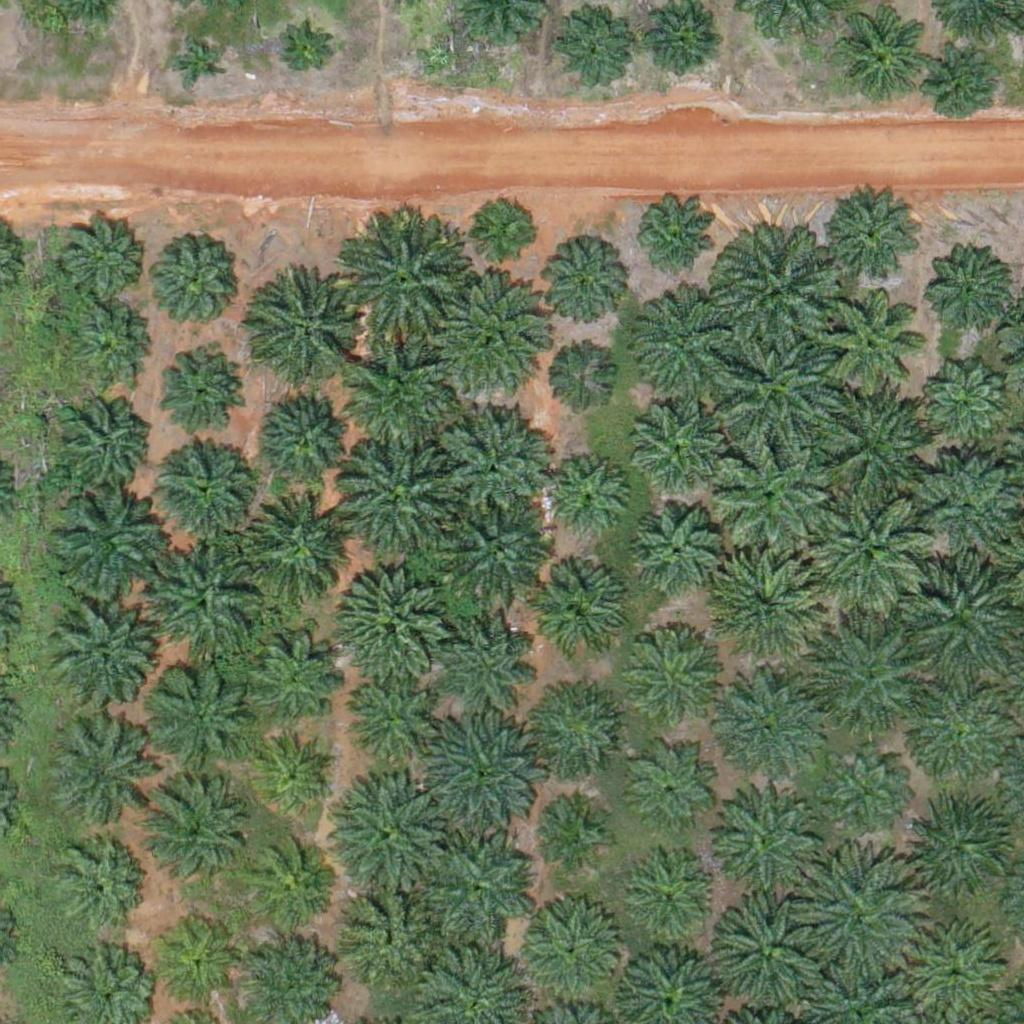Kelapa_Sawit: (791, 850, 916, 976), (813, 489, 938, 615), (712, 229, 837, 355), (342, 224, 467, 350), (716, 323, 841, 448), (706, 551, 819, 665), (710, 896, 823, 1010), (442, 279, 555, 393), (238, 492, 351, 606), (902, 560, 1015, 673), (816, 622, 929, 735), (717, 436, 830, 549), (710, 785, 823, 898), (631, 284, 744, 397), (518, 899, 631, 1012), (424, 714, 537, 827), (345, 342, 458, 455), (336, 443, 449, 556), (333, 563, 446, 676), (231, 623, 344, 736), (341, 781, 453, 895), (143, 657, 255, 771), (140, 773, 252, 887), (49, 489, 161, 603), (901, 676, 1013, 789), (818, 389, 930, 502), (708, 674, 820, 787), (423, 832, 535, 945), (442, 494, 554, 607), (437, 407, 549, 520), (148, 548, 260, 661), (918, 455, 1018, 556), (903, 919, 1003, 1020), (825, 298, 925, 399), (823, 187, 923, 288), (440, 601, 540, 702), (260, 385, 360, 486), (144, 229, 244, 330), (44, 721, 144, 822), (529, 563, 629, 663), (344, 884, 444, 984), (255, 283, 355, 383), (157, 439, 257, 539), (48, 608, 148, 708), (53, 392, 153, 492), (539, 241, 627, 330), (250, 731, 338, 819), (917, 803, 1005, 891), (626, 853, 714, 941), (630, 399, 718, 487), (540, 453, 628, 541), (339, 677, 427, 765), (242, 843, 330, 931), (151, 345, 239, 433), (53, 839, 141, 927), (833, 9, 921, 97), (631, 195, 718, 283), (633, 629, 720, 717), (632, 503, 719, 591), (534, 684, 621, 772), (155, 919, 242, 1007), (71, 300, 158, 388), (59, 217, 146, 305), (541, 346, 616, 422), (931, 252, 1006, 328), (929, 369, 1004, 445), (636, 755, 711, 831), (646, 6, 721, 82), (557, 10, 632, 86), (830, 745, 905, 820), (475, 198, 538, 261), (543, 803, 606, 866), (928, 50, 991, 113), (279, 28, 329, 79), (172, 37, 222, 88)
